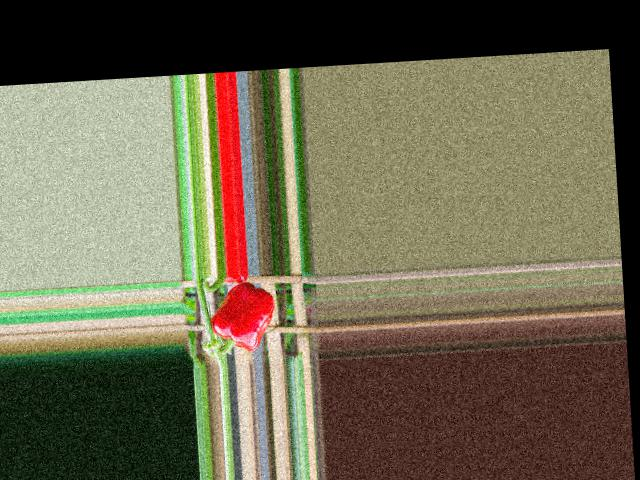bell_pepper: (204, 281, 281, 353)
